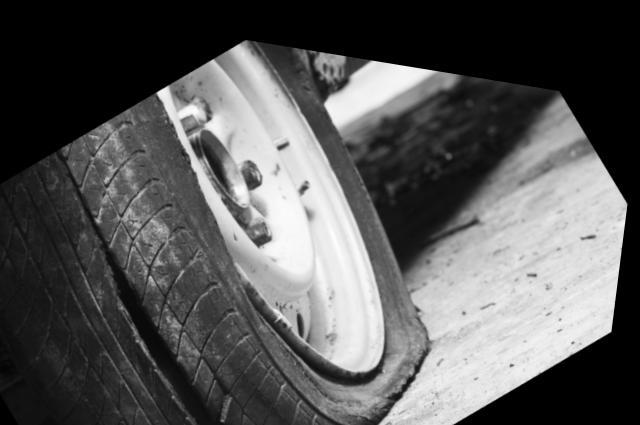tire flat: (0, 31, 435, 425)
